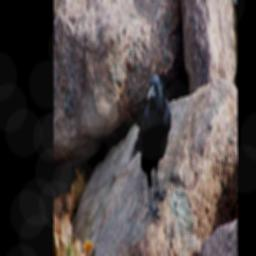Crow: (125, 67, 172, 226)
